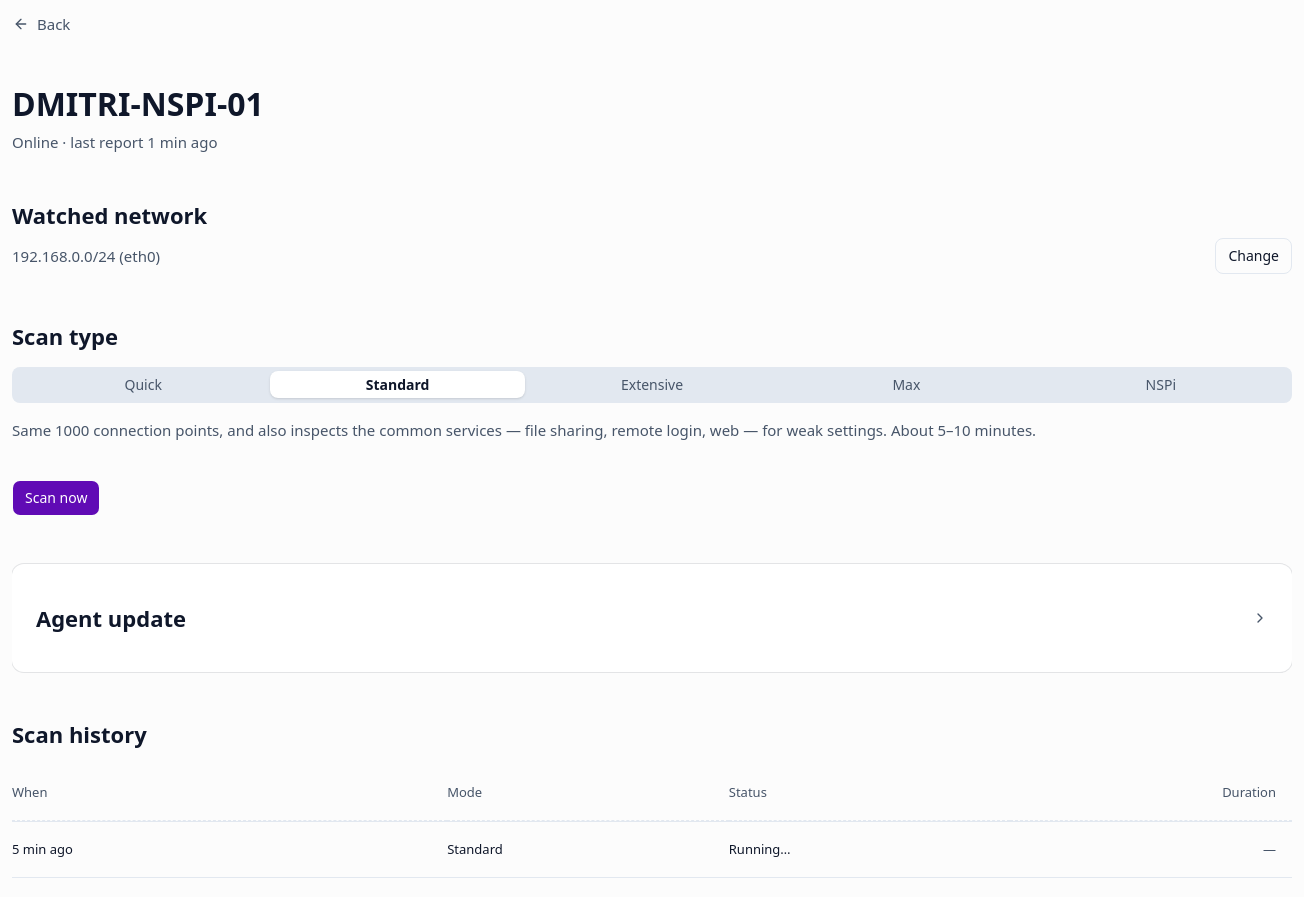
Test: DeviceDetail › hides scan controls while choosing a network
Click the button with test id "agents-network-change" at point(1254, 256), box left=1216, top=238, right=1292, bottom=274
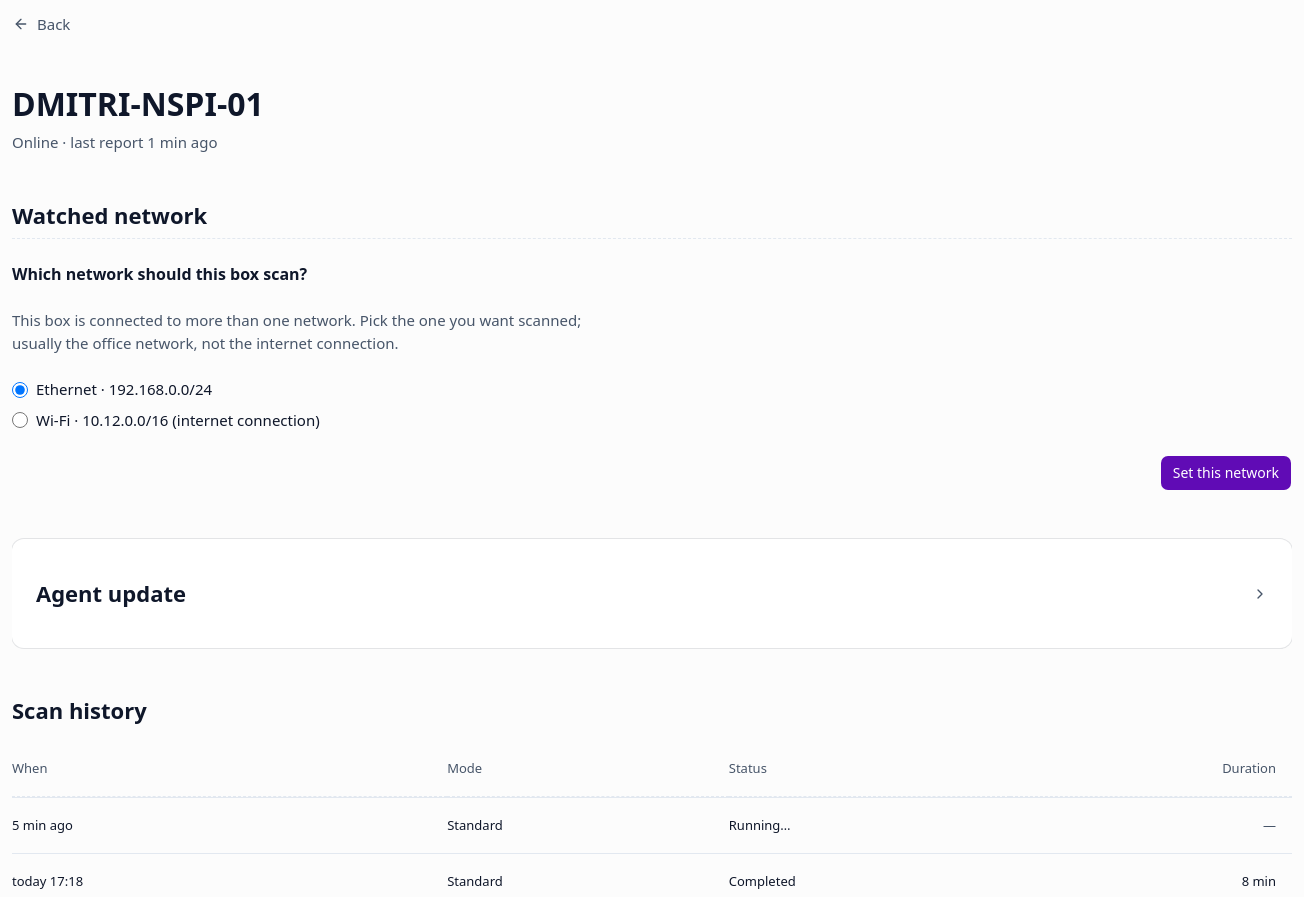
Result: the form with test id "agents-chooser" is shown at left=12, top=238, right=1292, bottom=491
Result: the element with test id "scan-type-tabs" is gone
Result: the button with test id "agents-scan-now" is gone
